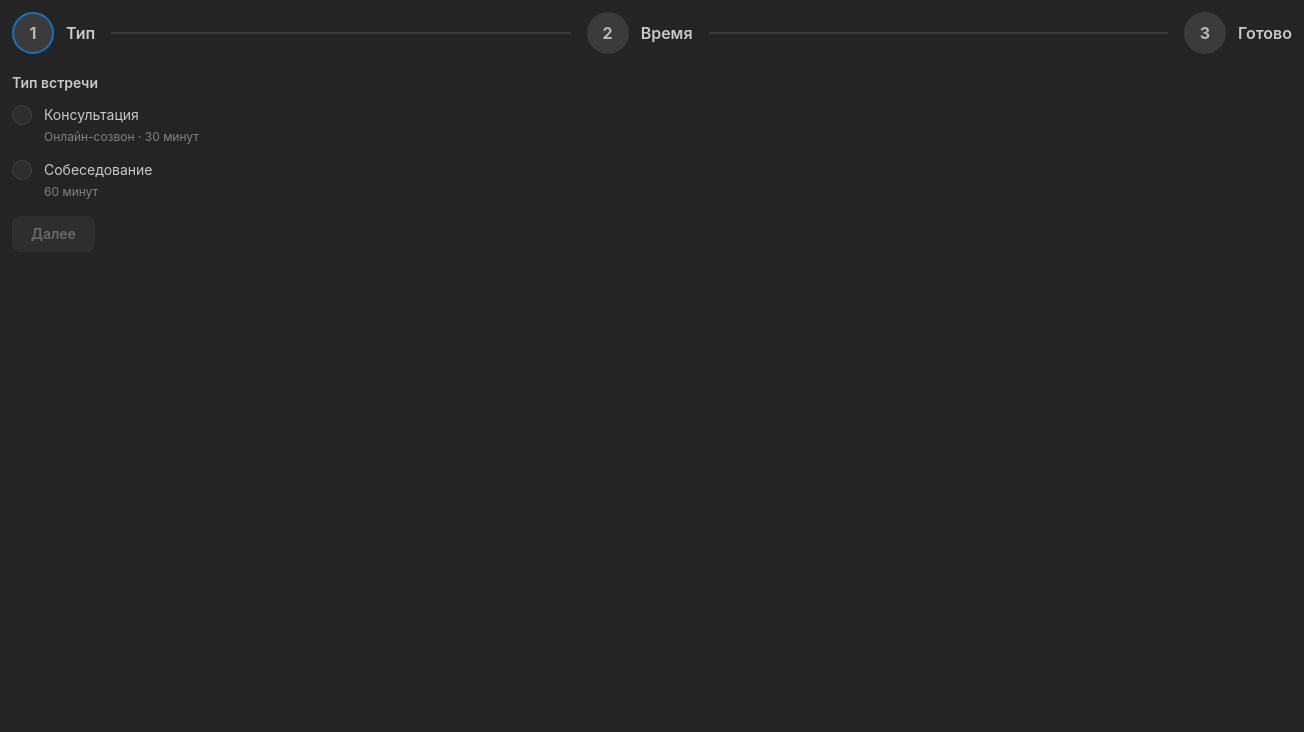
it: гостевой вид › занятый слот другого дня не выключает слоты выбранного
The image size is (1304, 732).
Click the radio button labelled "Консультация" at (22, 115), box [12,105,32,125]
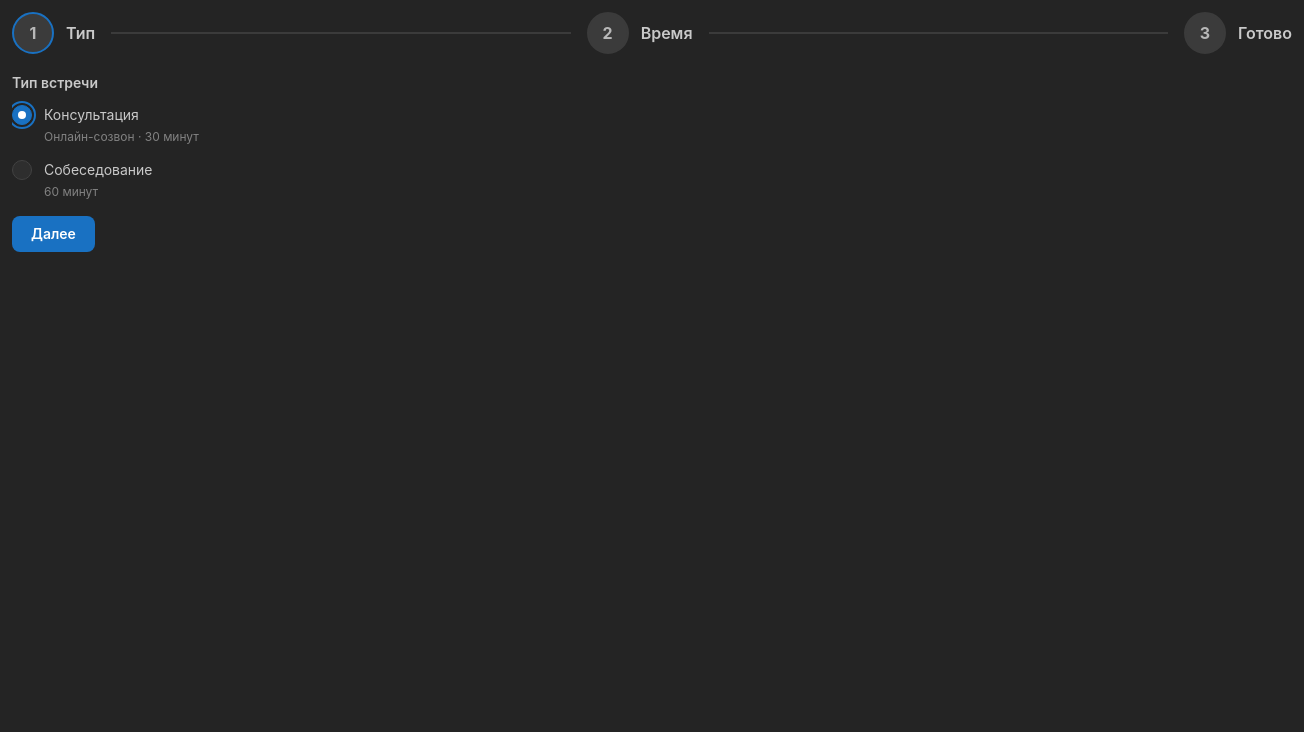
Click the button "Далее" at (53, 234), box [12,216,95,252]
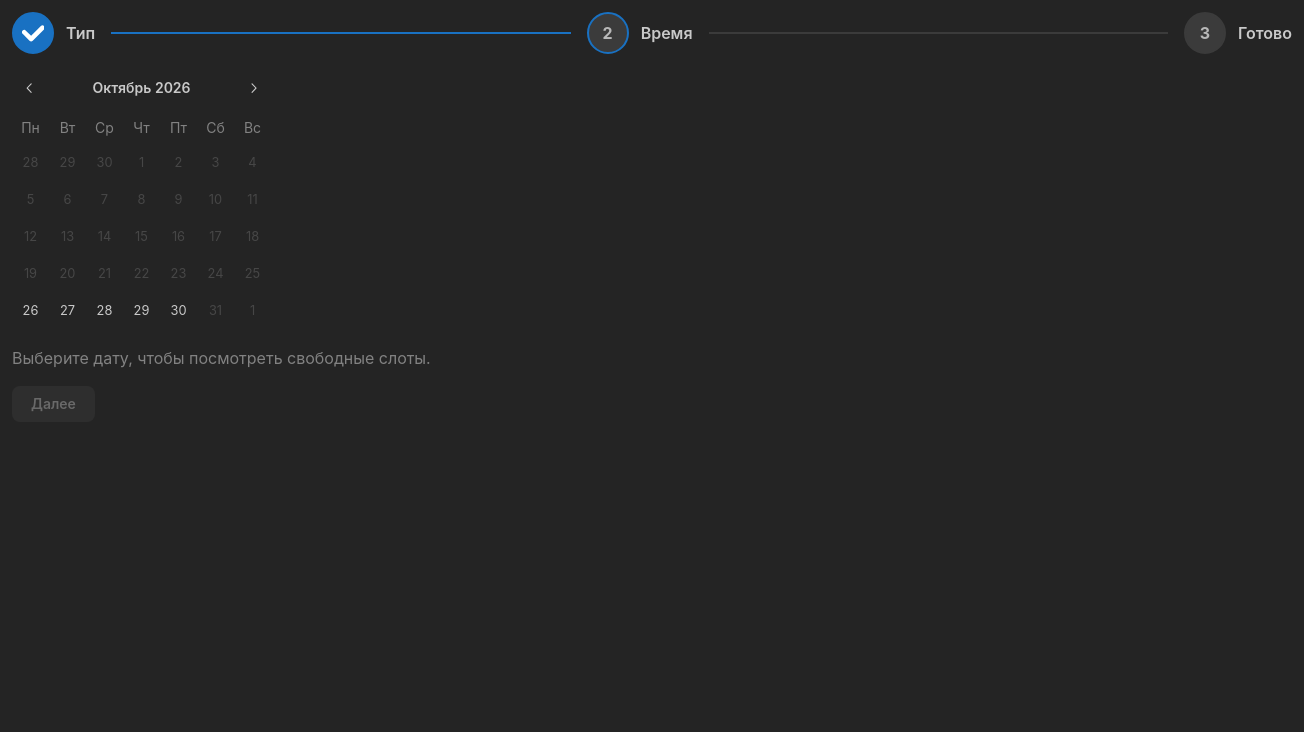
Click the button "26" at (30, 311), box [12,293,48,329]
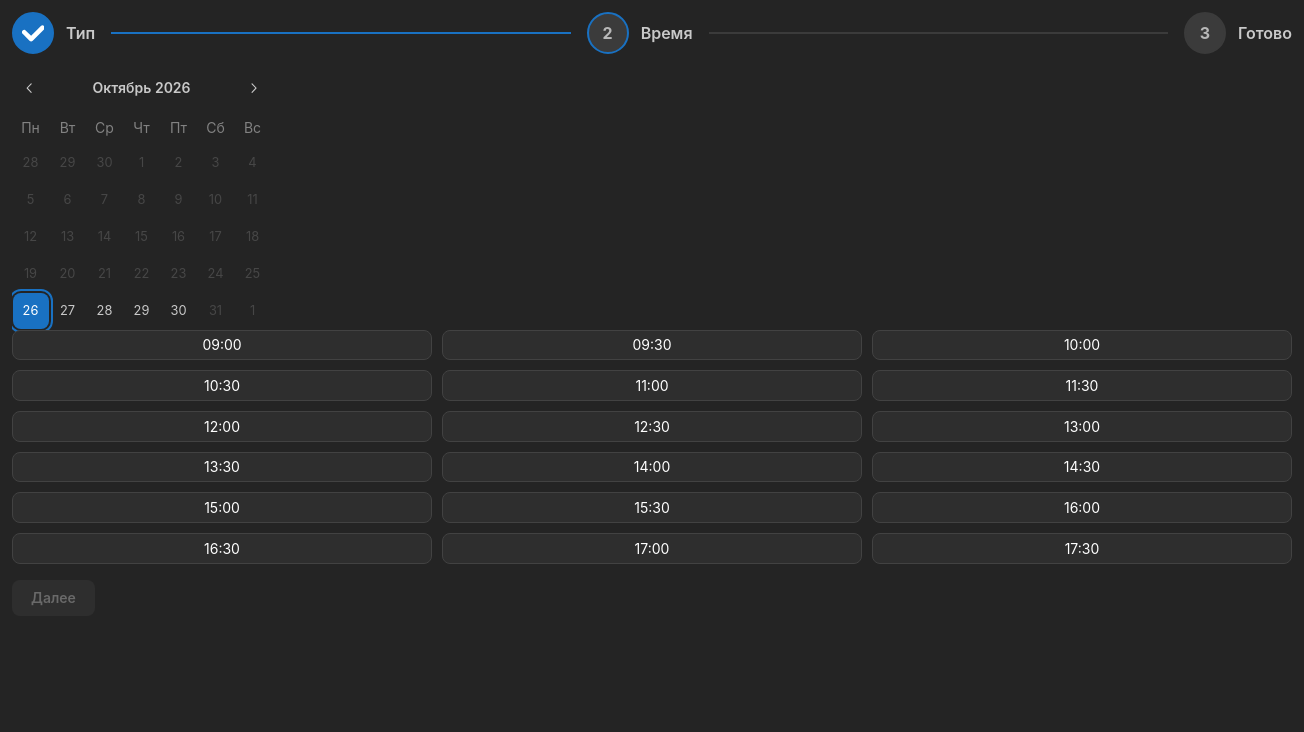
Result: the button "11:00" is enabled at [442,370,862,401]
